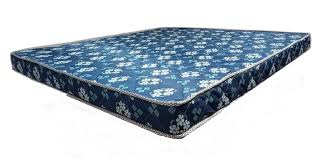bed-matress: (8, 26, 313, 140)
